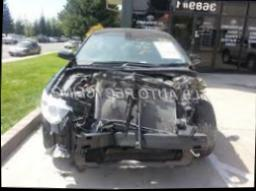Bonnet: (47, 62, 205, 132)
Bumper: (50, 126, 200, 170)
Light: (178, 104, 199, 128)
